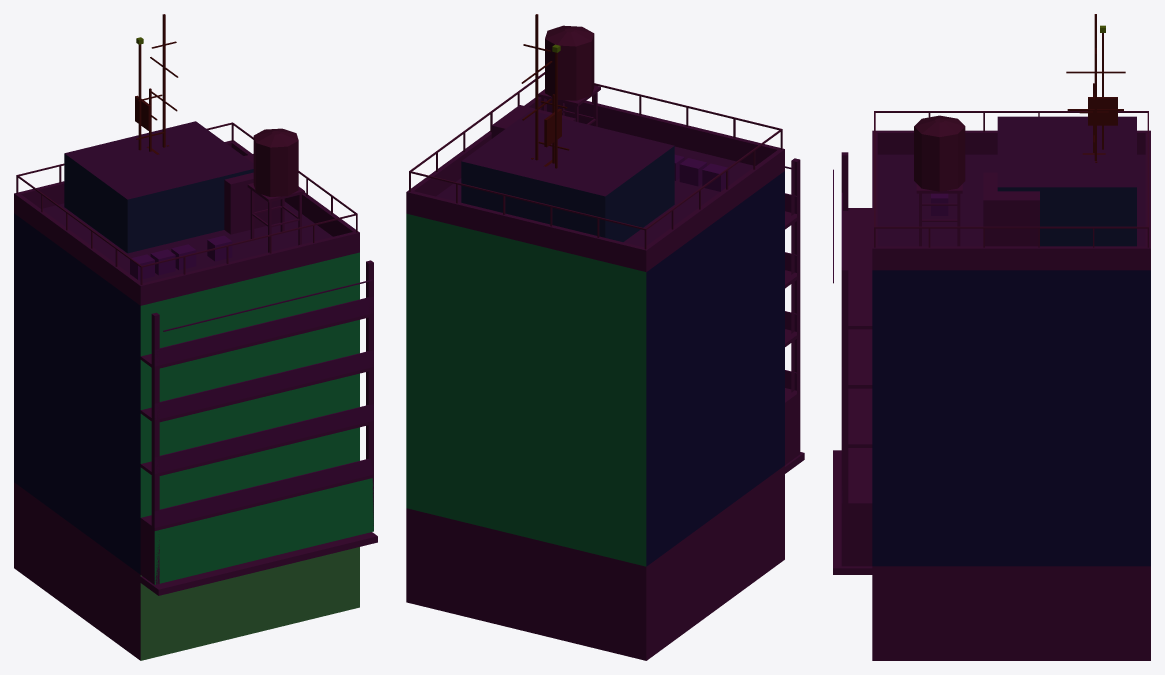
File: walkup_c.glb
3 renders of one model, left to right at view 1: azimuth 30°, elevation 25°; view 2: azimuth 150°, elevation 25°; view 3: azimuth 270°, elevation 25°, orthographic. The views are drawn at different scales.
Visible parts, largest first — view 1: walkup_c; view 2: walkup_c; view 3: walkup_c.
Boxes of the visible parts, bbox=[...] form: walkup_c: bbox=[14, 14, 377, 660]; walkup_c: bbox=[406, 14, 804, 660]; walkup_c: bbox=[833, 14, 1150, 660].
Bounding box in the file's own units: 12.8 × 30.19 × 14.6.
